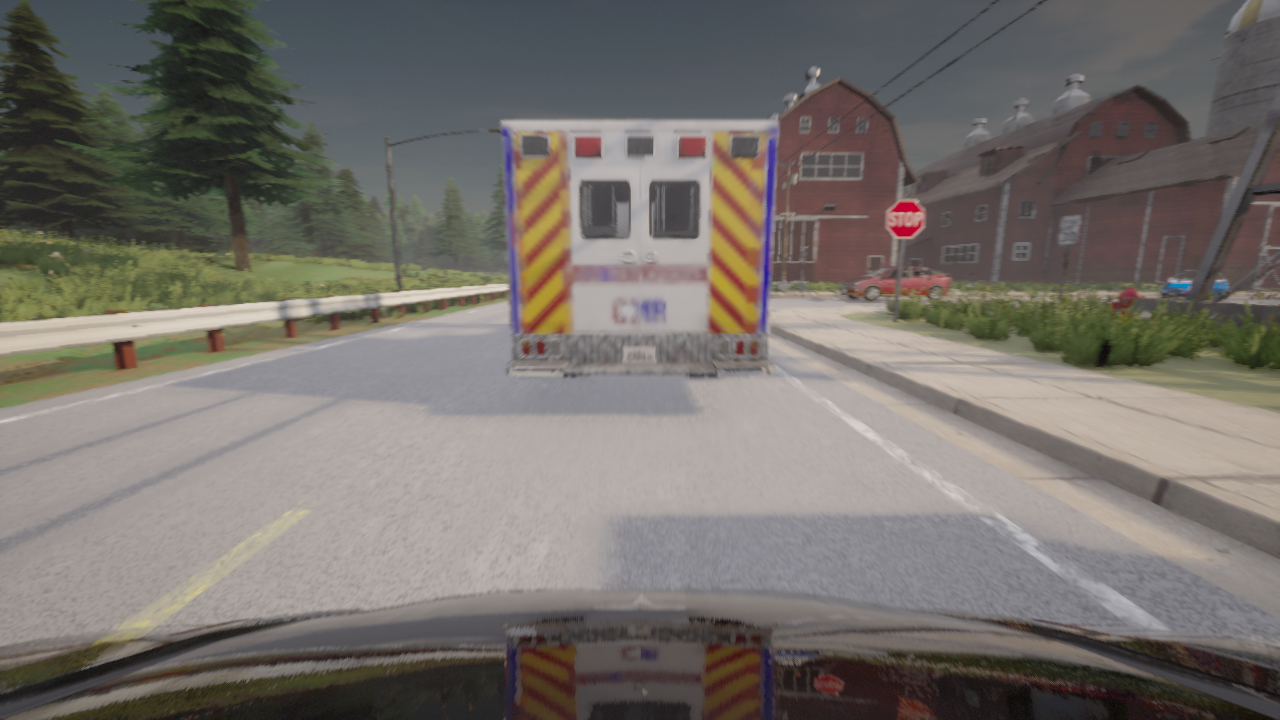cyclist: (0, 588, 1279, 719), (500, 119, 778, 376), (840, 266, 950, 300), (1159, 270, 1228, 298)
pedestrian: (966, 272, 977, 292)
